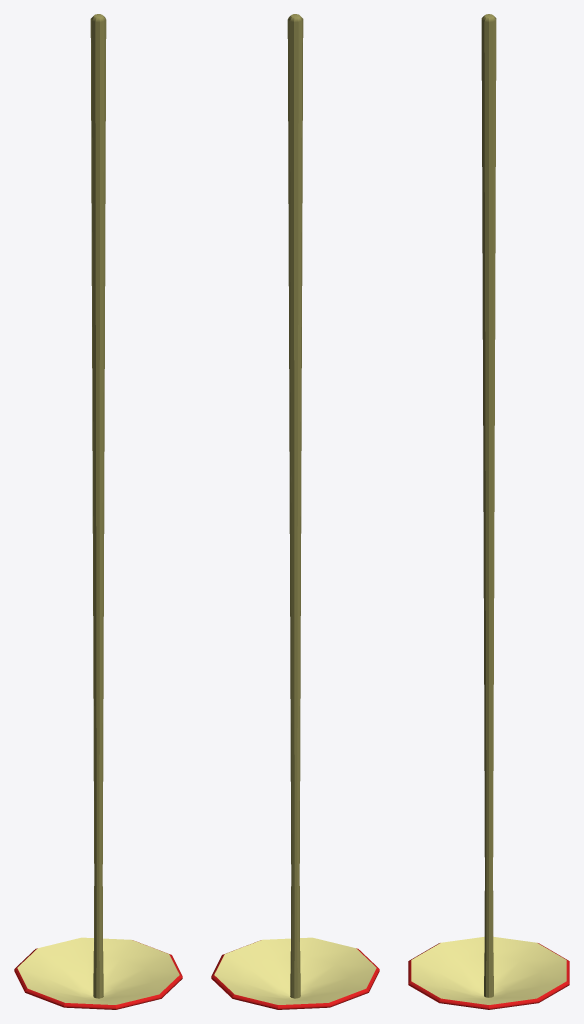
The model's file is MD_MushLight_01_02.fbx.
The picture shows the model from 3 angles, left to right: view 1: azimuth 30°, elevation 25°; view 2: azimuth 150°, elevation 25°; view 3: azimuth 270°, elevation 25°; orthographic projection.
Parts seen in each view (by area): view 1: MushroomLight01; view 2: MushroomLight01; view 3: MushroomLight01.
Boxes of the visible parts, x1,y1,x2,y2 form: MushroomLight01: (14,14,182,1009); MushroomLight01: (211,14,379,1009); MushroomLight01: (408,14,569,1009).
Size of the model in its own units: 486 by 3109 by 462.
1 material, 1 textured.
